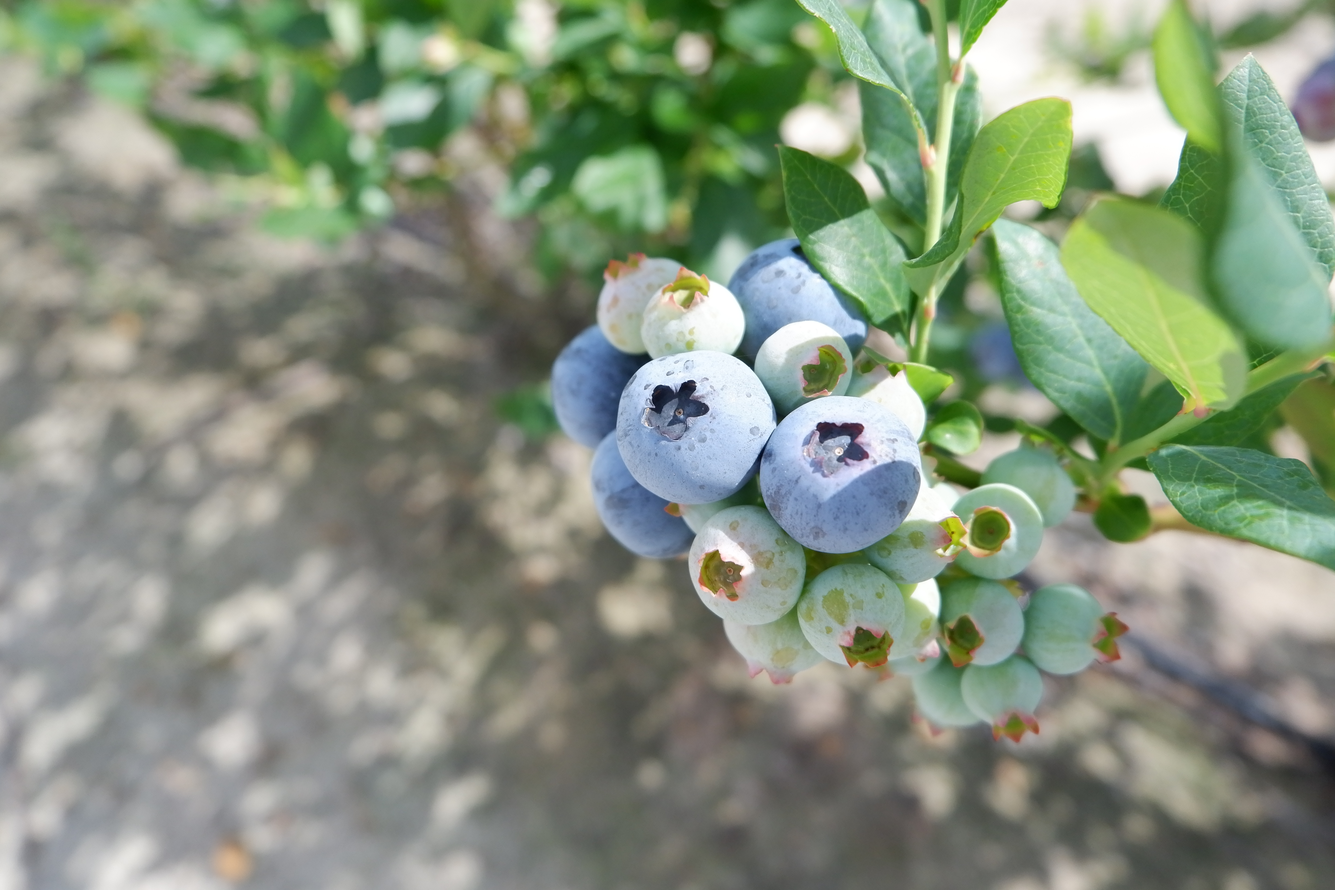Immature: (693, 507, 805, 623), (801, 566, 904, 666), (753, 323, 851, 418), (1022, 583, 1127, 671), (870, 486, 960, 582), (596, 252, 681, 353), (644, 276, 744, 356), (956, 484, 1041, 578), (661, 468, 767, 535), (985, 446, 1073, 524), (943, 579, 1023, 664), (961, 656, 1041, 739), (727, 608, 816, 682), (847, 363, 923, 438), (912, 659, 975, 734), (886, 583, 942, 662), (879, 648, 947, 683)
Mature: (761, 396, 919, 550), (618, 353, 772, 499), (729, 237, 864, 362), (592, 437, 693, 556), (552, 328, 647, 444)
